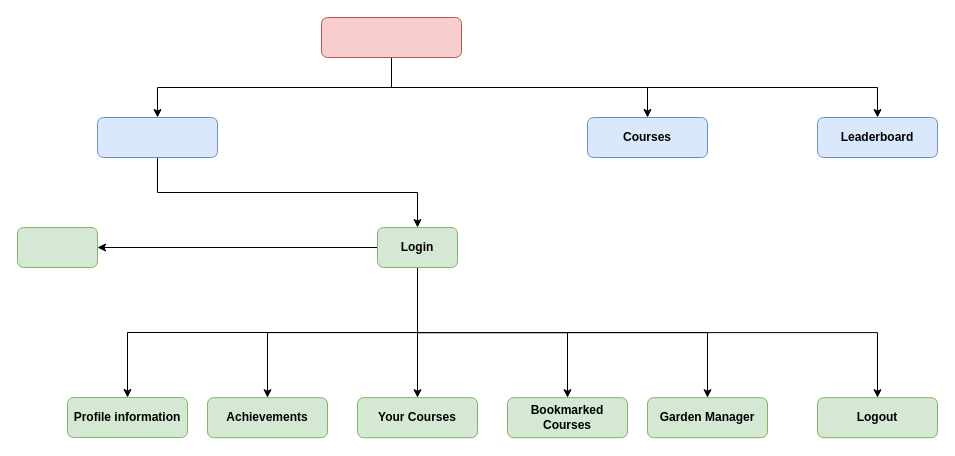
Image size: 955x456. Some labels were removed from this diagram. Here are the shapes that lost their labels. From the top down, the centre of each, then its label:
At (391,37): "Home page".
At (157,137): "My profile".
At (57,247): "Registration".
